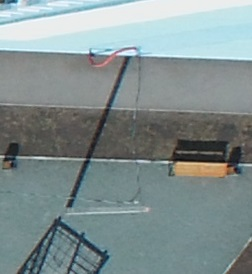opora: (63, 170, 151, 214)
